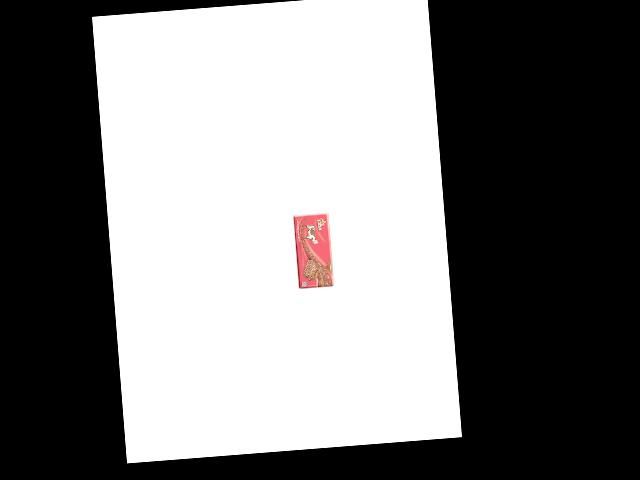chocolate: (289, 210, 335, 291)
